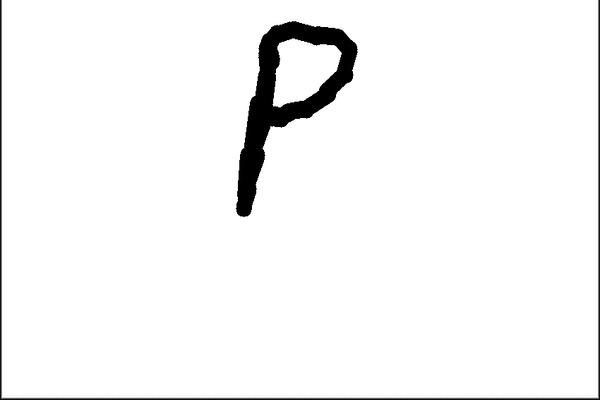P: (221, 14, 365, 219)
